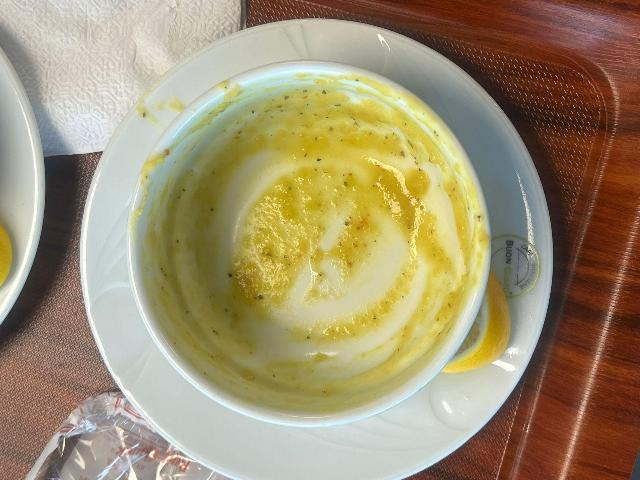Kagit: (0, 0, 246, 146)
Organik: (444, 266, 515, 383)
